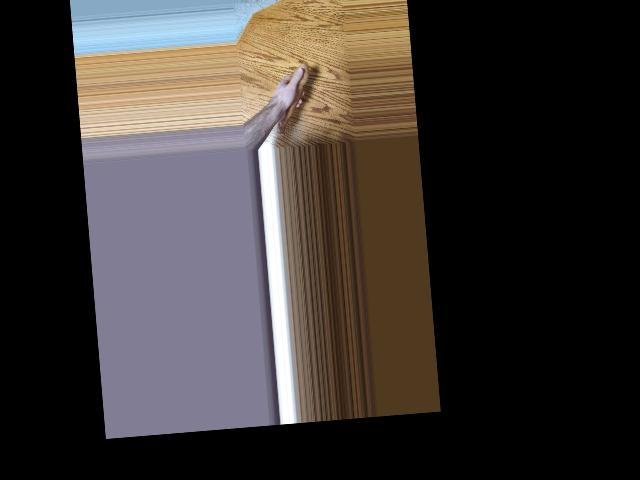sweet_potato: (269, 62, 316, 139)
